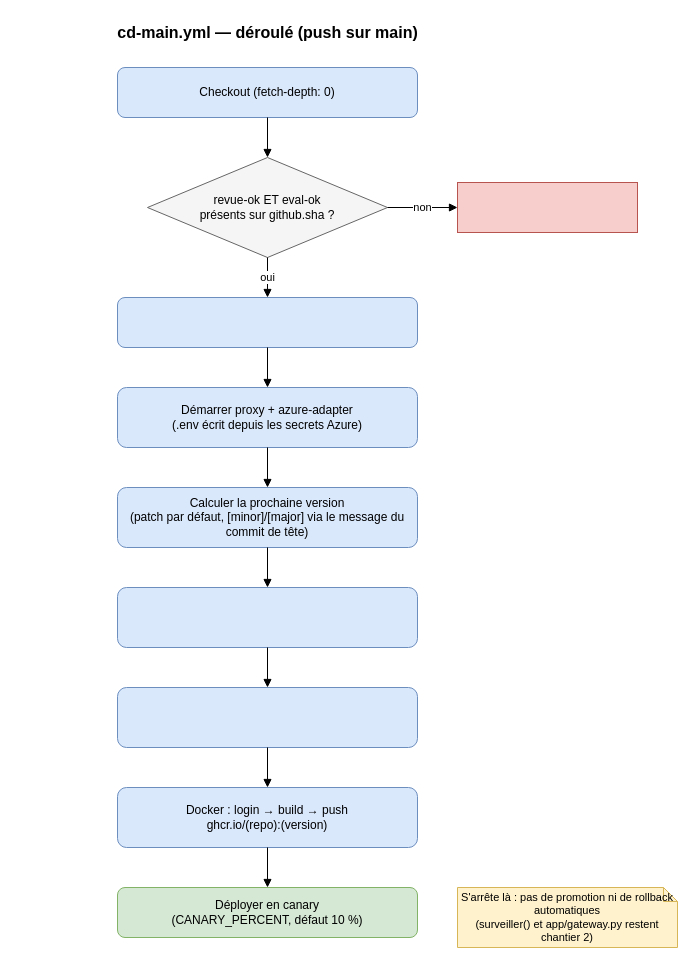
This 695x965 diagram has some shape labels left out. Each missing label, with the centre of its shape:
Committer + pousser ops/registry/(version)/ (GITHUB_TOKEN, jamais un PAT): [267,717]
Installer les dépendances (uv): [267,322]
Publier la version (rejoue le vrai gate d'évaluation, étiquette le registre): [267,617]
Refus (exit 1): [547,207]
